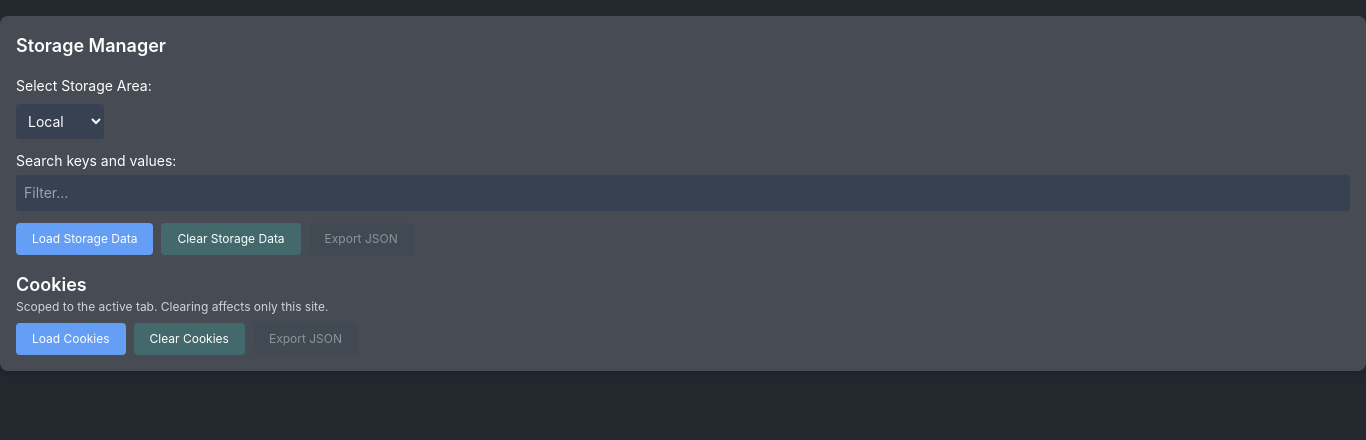
Test case: StorageManager › surfaces an error when local storage cannot be read
The image size is (1366, 440).
Click the button "Load Storage Data" at (85, 239), box [16, 223, 153, 255]
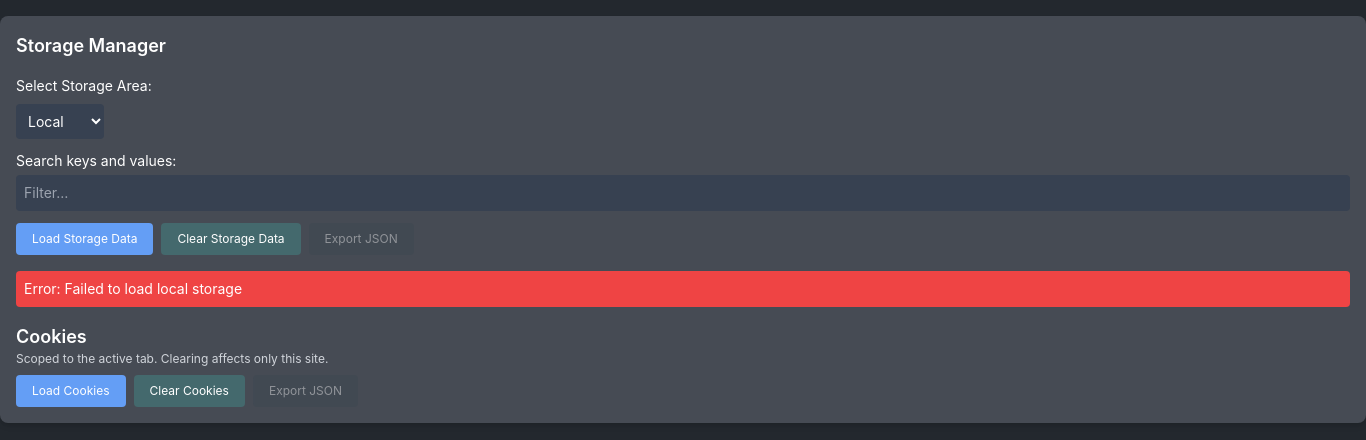
Result: the text "Error: Failed to load local storage" is shown at [24, 280, 242, 297]
